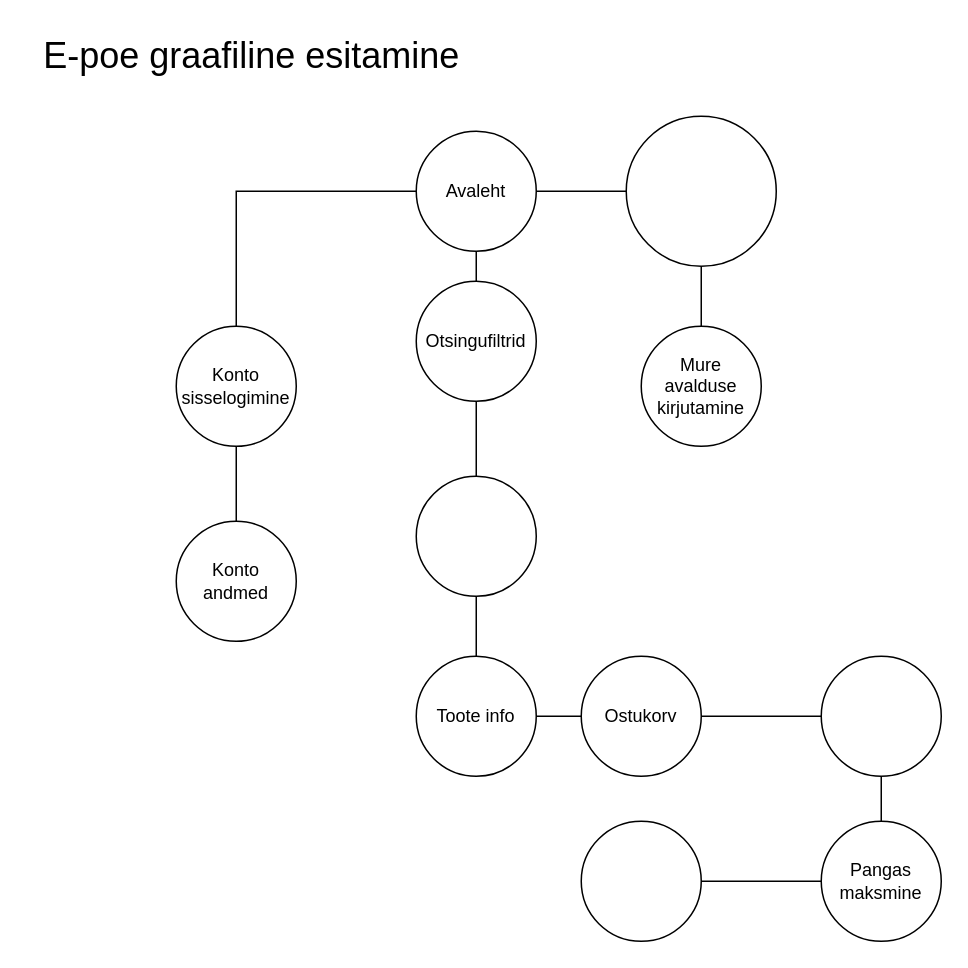
This 968x968 diagram has some shape labels left out. The shapes that lost their labels are listed below. From the top down, each one's centre as x and y in pixels, then its label:
(x=700, y=190): Klienditeenindus
(x=475, y=535): Toodete kataloog
(x=880, y=715): Ostu kinnitamine
(x=640, y=880): Tellimuse kinnitamine
